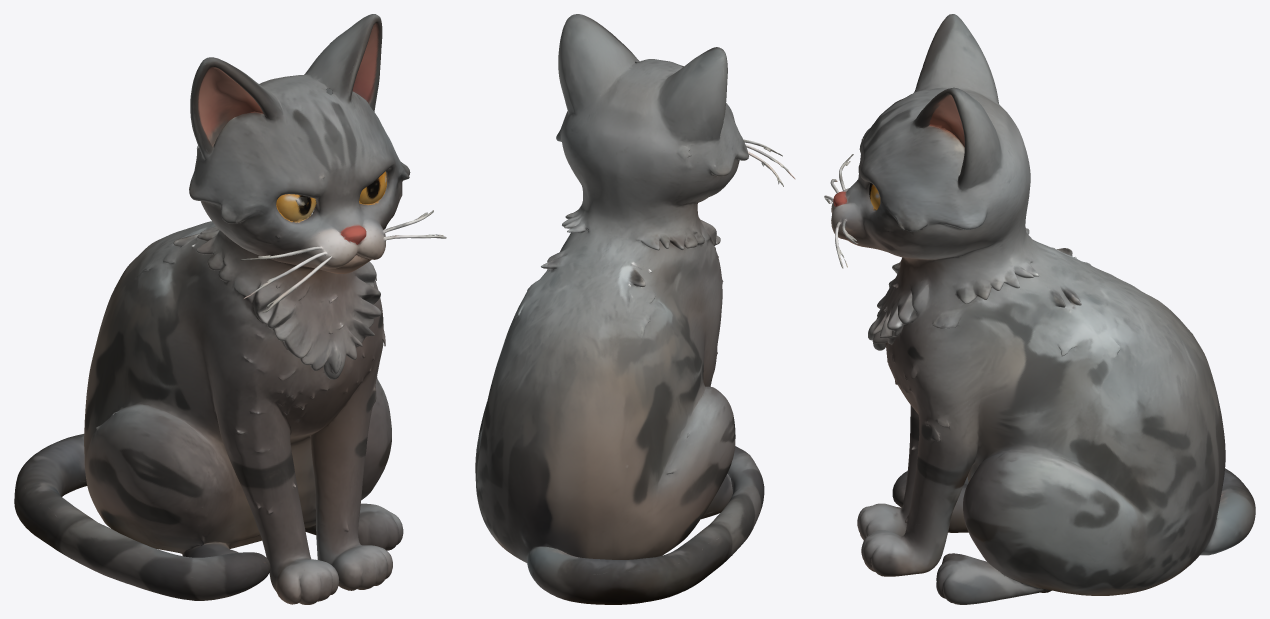
Rendered from cat.glb.
3 views of the same model, side by side, from view 1: azimuth 30°, elevation 25°; view 2: azimuth 150°, elevation 25°; view 3: azimuth 270°, elevation 25° (orthographic). The views are drawn at different scales.
Visible parts, largest first — view 1: Mesh_0; view 2: Mesh_0; view 3: Mesh_0.
Part boxes in pixels (x1,y1,x2,y2): Mesh_0: [14, 14, 446, 604]; Mesh_0: [475, 14, 795, 604]; Mesh_0: [824, 14, 1255, 604].
Bounding box in the file's own units: 0.464 × 0.8191 × 0.6239.
Materials: 1 (1 with a texture image).
